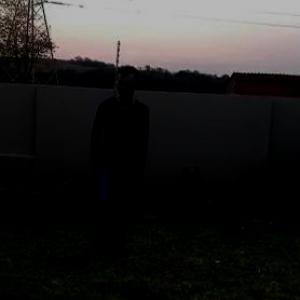follow: (81, 53, 145, 280)
